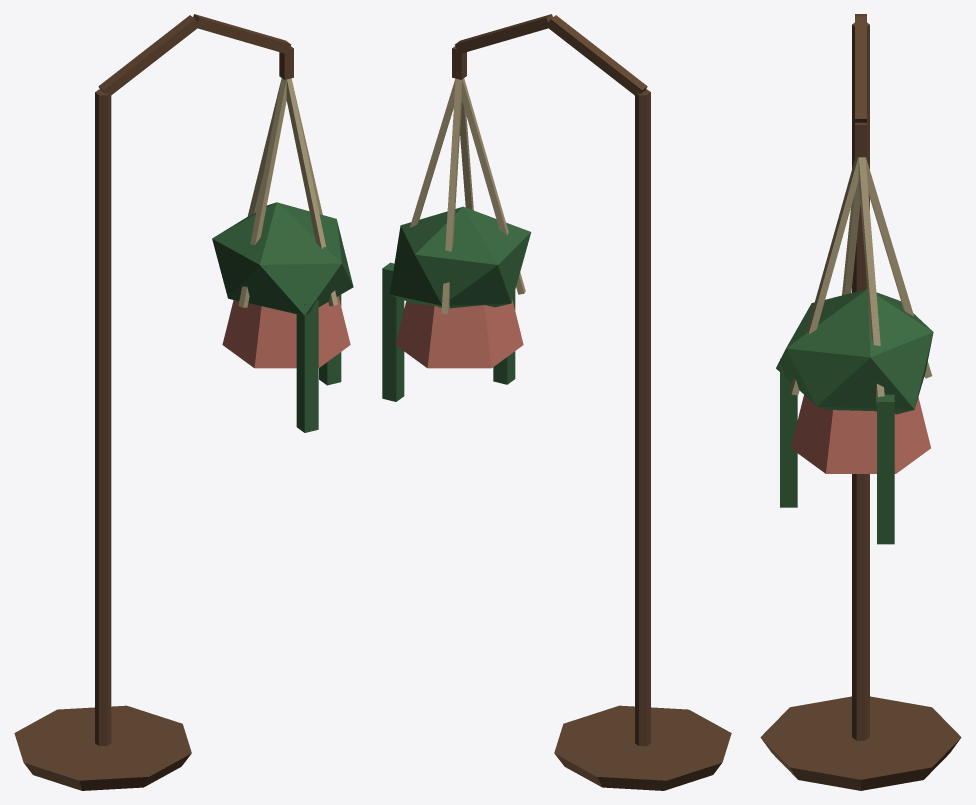
Rendered from plant-hanger-40.glb.
3 renders of one model, left to right at view 1: azimuth 30°, elevation 25°; view 2: azimuth 150°, elevation 25°; view 3: azimuth 270°, elevation 25°, orthographic. The views are drawn at different scales.
Visible parts, largest first — view 1: plant_hanger_40; view 2: plant_hanger_40; view 3: plant_hanger_40.
Boxes of the visible parts, x1,y1,x2,y2 form: plant_hanger_40: (14,14,353,790); plant_hanger_40: (382,14,731,790); plant_hanger_40: (760,14,961,790).
Size of the model in its own units: 0.694 by 1.47 by 0.34.
